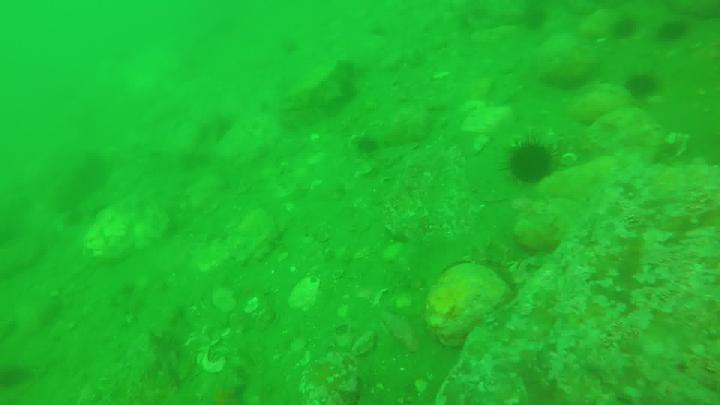echinus: (508, 140, 552, 186), (627, 74, 665, 103), (660, 22, 692, 41), (623, 17, 637, 39)
